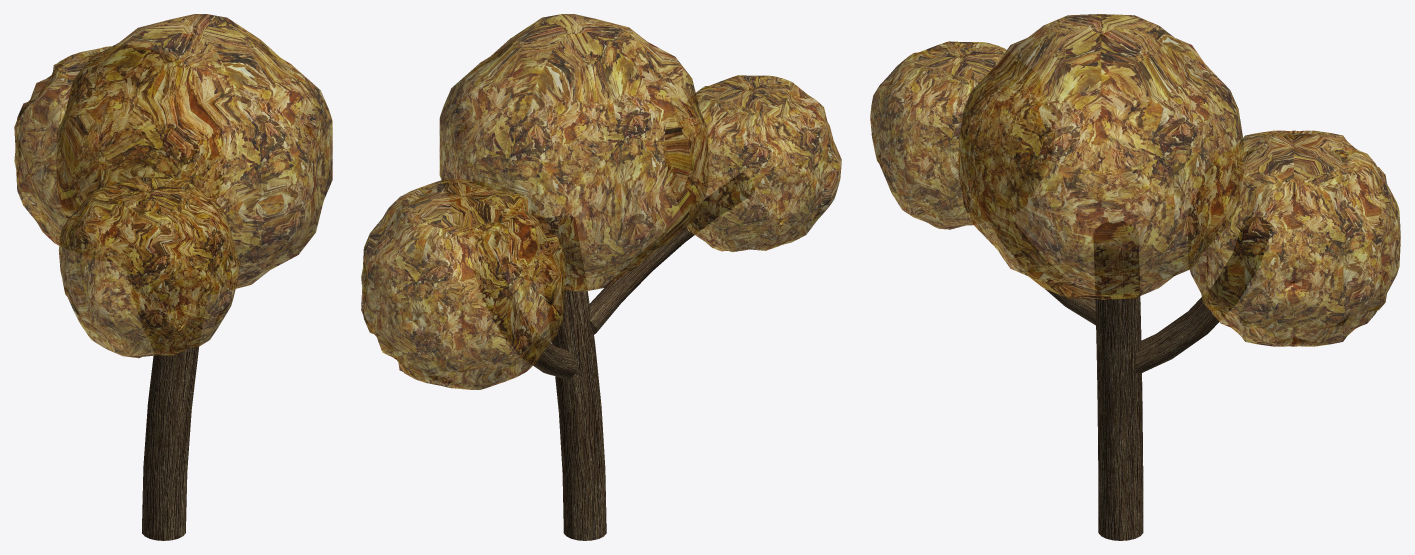
The model's file is baum3.DAE.
3 renders of one model, left to right at view 1: azimuth 30°, elevation 25°; view 2: azimuth 150°, elevation 25°; view 3: azimuth 270°, elevation 25°, orthographic. The views are drawn at different scales.
Parts seen in each view (by area): view 1: Geosph_re002, Geosph_re001, Geosph_re003, Zylinder001, Zylinder003; view 2: Geosph_re002, Geosph_re003, Geosph_re001, Zylinder001, Zylinder003, Zylinder002; view 3: Geosph_re002, Geosph_re003, Geosph_re001, Zylinder001, Zylinder002, Zylinder003.
Part boxes in pixels (left/top/right/bottom): Geosph_re002: left=56, top=14, right=332, bottom=288; Geosph_re001: left=58, top=176, right=239, bottom=358; Geosph_re003: left=14, top=46, right=209, bottom=245; Zylinder001: left=142, top=346, right=199, bottom=540; Zylinder003: left=132, top=268, right=184, bottom=311; Geosph_re002: left=439, top=14, right=708, bottom=291; Geosph_re003: left=361, top=178, right=565, bottom=389; Geosph_re001: left=663, top=75, right=841, bottom=252; Zylinder001: left=545, top=215, right=606, bottom=540; Zylinder003: left=588, top=173, right=754, bottom=334; Zylinder002: left=472, top=255, right=577, bottom=378; Geosph_re002: left=958, top=14, right=1243, bottom=299; Geosph_re003: left=1187, top=130, right=1400, bottom=346; Geosph_re001: left=870, top=41, right=1055, bottom=229; Zylinder001: left=1093, top=221, right=1143, bottom=540; Zylinder002: left=1135, top=217, right=1272, bottom=373; Zylinder003: left=1044, top=288, right=1095, bottom=325.
Size of the model in its own units: 56.66 by 81.4 by 87.05.
